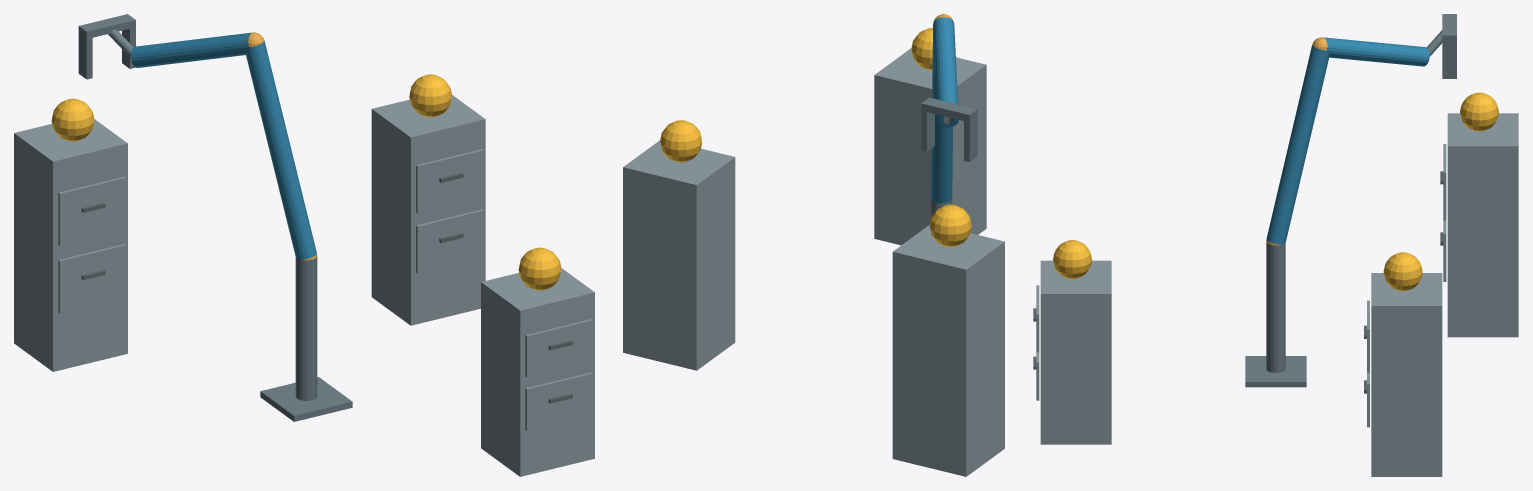
3 renders of one model, left to right at view 1: azimuth 30°, elevation 25°; view 2: azimuth 150°, elevation 25°; view 3: azimuth 270°, elevation 25°, orthographic. The views are drawn at different scales.
Parts seen in each view (by area): view 1: cabinet_3 body, cabinet_2 body, cabinet_1 body, moving link 1, cabinet_3 drawer front.001, cabinet_3 drawer front, cabinet_2 drawer front, cabinet_2 drawer front.001, fixed post, cabinet_1 drawer front, cabinet_1 drawer front.001, moving link 2 (+6 smaller); view 2: cabinet_3 body, cabinet_2 body, cabinet_1 body, moving link 2, moving link 1, released ball_2, ball ball_3, gripper bridge, released ball_1, gripper finger -1, gripper finger 1; view 3: cabinet_3 body, cabinet_2 body, cabinet_1 body, moving link 1, fixed post, moving link 2, pedestal, released ball_2, ball ball_3, released ball_1, gripper finger 1.
Part boxes in pixels (x1,y1,x2,y2): cabinet_3 body: [14, 119, 127, 371]; cabinet_2 body: [371, 95, 485, 325]; cabinet_1 body: [481, 268, 594, 476]; moving link 1: [246, 40, 316, 259]; cabinet_3 drawer front.001: [58, 177, 125, 246]; cabinet_3 drawer front: [58, 244, 125, 313]; cabinet_2 drawer front: [416, 209, 483, 273]; cabinet_2 drawer front.001: [416, 149, 483, 213]; fixed post: [295, 256, 317, 400]; cabinet_1 drawer front: [525, 372, 592, 430]; cabinet_1 drawer front.001: [525, 319, 592, 377]; moving link 2: [130, 32, 251, 67]; cabinet_3 body: [892, 225, 1004, 476]; cabinet_2 body: [623, 140, 735, 370]; cabinet_1 body: [874, 48, 986, 245]; moving link 2: [933, 17, 958, 127]; moving link 1: [931, 27, 952, 203]; released ball_2: [660, 120, 702, 162]; ball ball_3: [929, 204, 971, 246]; gripper bridge: [921, 97, 977, 122]; released ball_1: [911, 28, 932, 70]; gripper finger -1: [964, 117, 977, 161]; gripper finger 1: [921, 110, 934, 151]; cabinet_3 body: [1447, 113, 1518, 337]; cabinet_2 body: [1371, 273, 1442, 476]; cabinet_1 body: [1040, 260, 1111, 444]; moving link 1: [1266, 45, 1329, 244]; fixed post: [1266, 242, 1285, 372]; moving link 2: [1323, 37, 1429, 66]; pedestal: [1245, 356, 1306, 387]; released ball_2: [1383, 252, 1422, 291]; ball ball_3: [1460, 92, 1498, 131]; released ball_1: [1053, 240, 1091, 278]; gripper finger 1: [1442, 42, 1456, 78].
Size of the model in its own units: 1.67 by 1.46 by 1.98.
